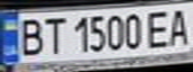0: (124, 10, 148, 51), (106, 11, 127, 52)
1: (66, 12, 90, 53)
5: (87, 12, 109, 52)
A: (163, 6, 193, 46)
B: (12, 16, 48, 56)
E: (142, 7, 175, 50)
T: (36, 15, 66, 55)
